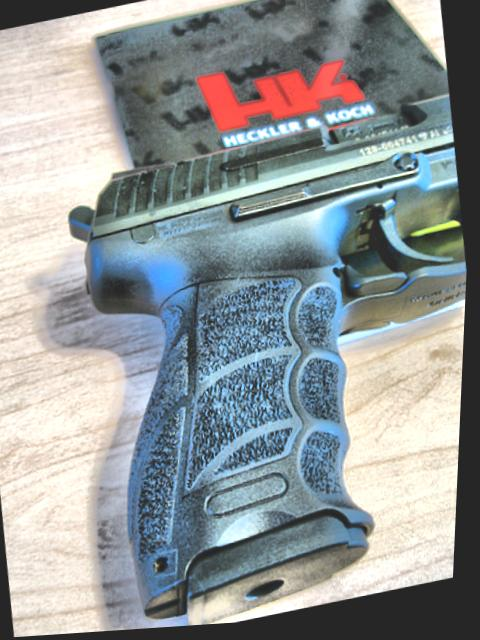pistol: (48, 97, 476, 635)
